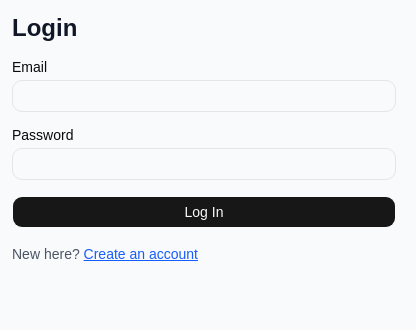
it: LoginPage › shows both schema messages when the form is submitted empty
Step 1. Click the button "Log In" → (204, 212), box [12, 196, 396, 228]
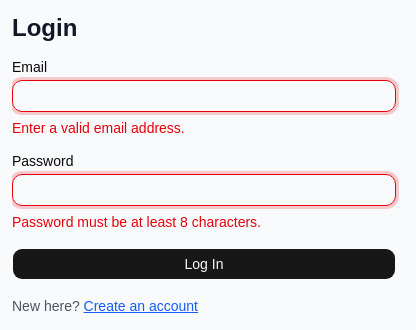
Check: the text "Enter a valid email address." is shown, box [12, 120, 185, 136]
Check: the text "Password must be at least 8 characters." is shown, box [12, 214, 261, 230]
